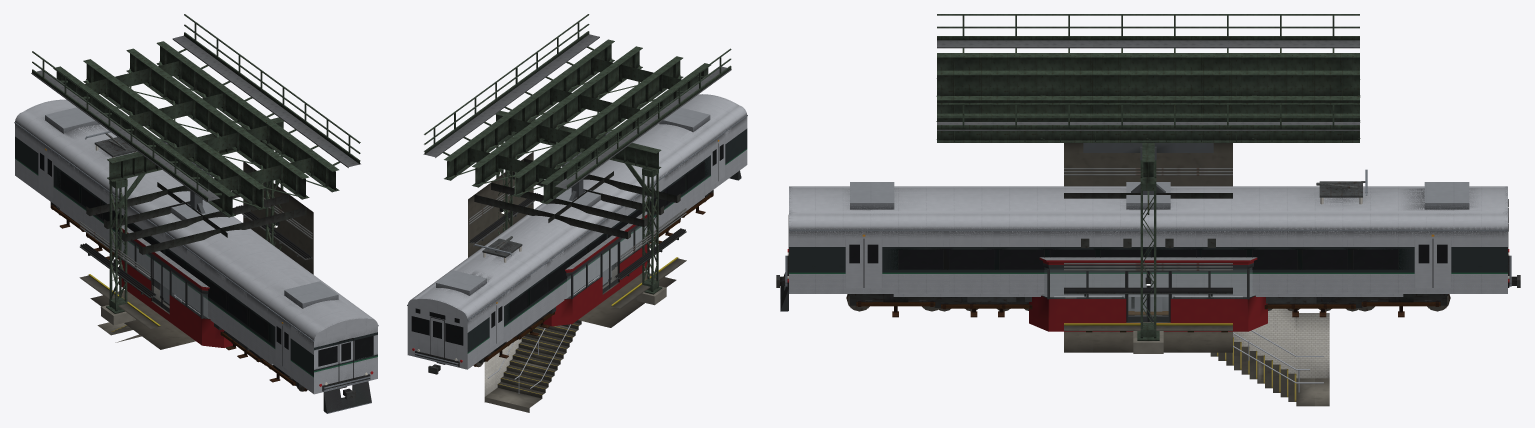
File: rail.glb
The picture shows the model from 3 angles, left to right: view 1: azimuth 30°, elevation 25°; view 2: azimuth 150°, elevation 25°; view 3: azimuth 270°, elevation 25°; orthographic projection. The views are drawn at different scales.
Visible parts, largest first — view 1: el_viaduct, commuter_car, commuter_car_lod, tunnel_segment, tram_cabin, tram_door_l1_b, tram_door_l1_a, subway_car, stair_down; view 2: el_viaduct, commuter_car, commuter_car_lod, tunnel_segment, stair_down, tram_cabin, tram_door_l1_a; view 3: commuter_car, el_viaduct, commuter_car_lod, tunnel_segment, tram_cabin, stair_down, subway_car_lod, commuter_bogie_f, commuter_bogie_r, tram_door_r1_a, tram_door_r1_b.
Boxes of the visible parts, <box> form: el_viaduct: <box>31,14,360,325</box>; commuter_car: <box>14,99,378,413</box>; commuter_car_lod: <box>15,99,377,413</box>; tunnel_segment: <box>79,162,313,349</box>; tram_cabin: <box>117,140,232,347</box>; tram_door_l1_b: <box>152,258,161,306</box>; tram_door_l1_a: <box>161,265,171,312</box>; subway_car: <box>60,209,272,364</box>; stair_down: <box>97,277,141,342</box>; el_viaduct: <box>423,14,731,305</box>; commuter_car: <box>407,94,747,374</box>; commuter_car_lod: <box>407,94,747,373</box>; tunnel_segment: <box>468,151,686,327</box>; stair_down: <box>484,320,581,412</box>; tram_cabin: <box>543,131,651,326</box>; tram_door_l1_a: <box>609,242,618,288</box>; commuter_car: <box>776,169,1520,311</box>; el_viaduct: <box>936,14,1360,353</box>; commuter_car_lod: <box>776,181,1520,311</box>; tunnel_segment: <box>1064,143,1232,352</box>; tram_cabin: <box>1029,143,1267,331</box>; stair_down: <box>1210,308,1329,406</box>; subway_car_lod: <box>893,294,1403,308</box>; commuter_bogie_f: <box>846,294,939,317</box>; commuter_bogie_r: <box>1357,294,1450,317</box>; tram_door_r1_a: <box>1148,271,1170,321</box>; tram_door_r1_b: <box>1126,271,1148,321</box>.
Size of the model in its own units: 8.9 by 13.55 by 26.8.
Materials: 2 (1 with a texture image).
